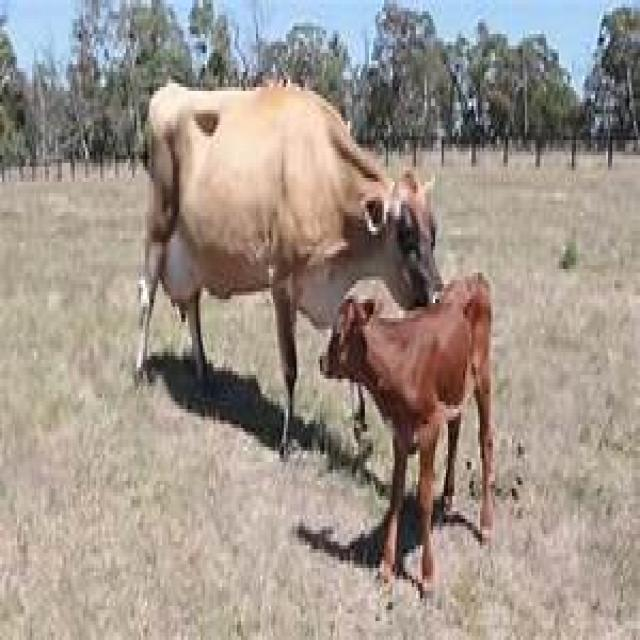cow: (137, 83, 444, 417), (320, 273, 495, 595)
